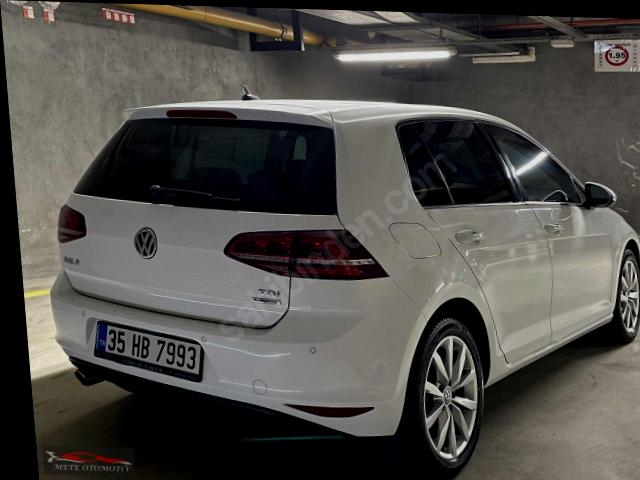plaka: (94, 321, 203, 382)
